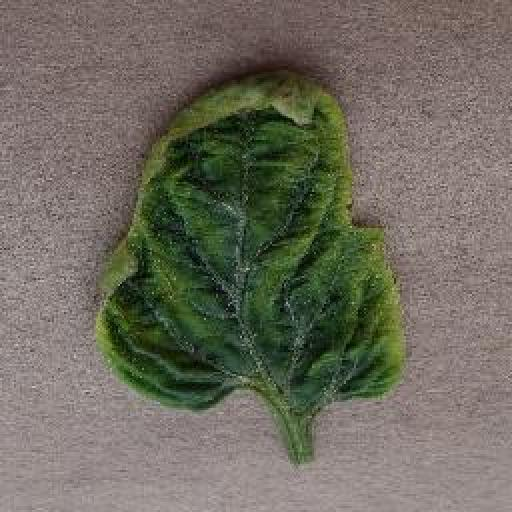disease_tomato: (94, 72, 407, 412)
